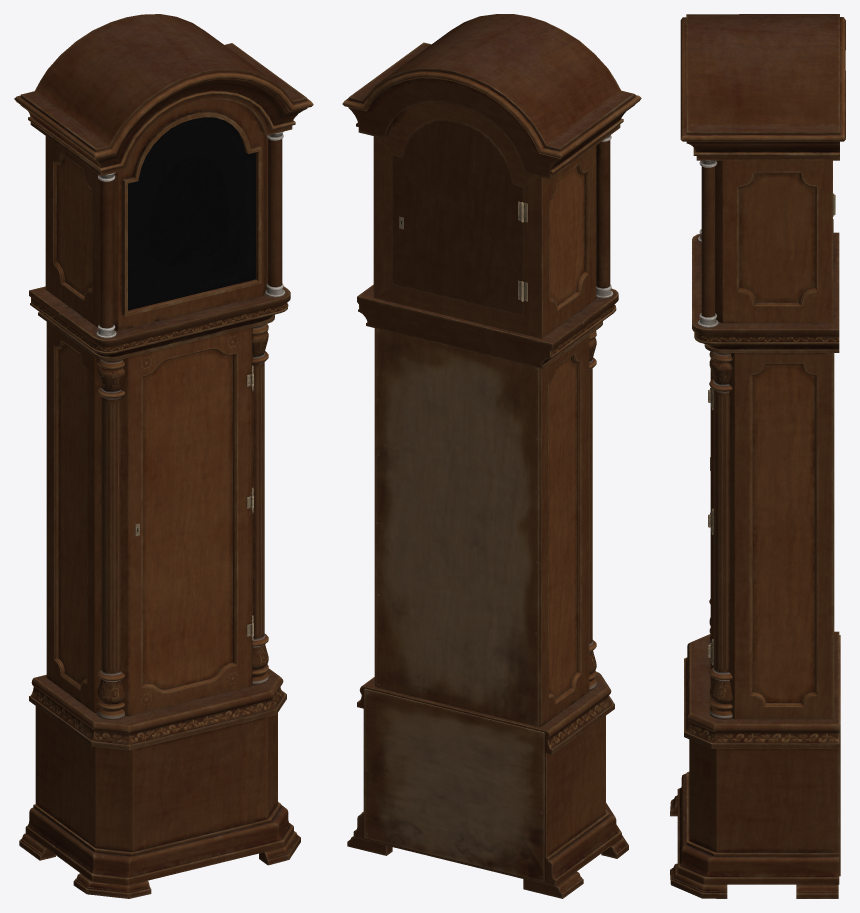
The model's file is vintage_grandfather_clock_01_2k.gltf.
3 views of the same model, side by side, from view 1: azimuth 30°, elevation 25°; view 2: azimuth 150°, elevation 25°; view 3: azimuth 270°, elevation 25° (orthographic). The views are drawn at different scales.
Visible parts, largest first — view 1: vintage_grandfather_clock_01_body; view 2: vintage_grandfather_clock_01_body; view 3: vintage_grandfather_clock_01_body.
Part boxes in pixels (left/top/right/bottom): vintage_grandfather_clock_01_body: left=14, top=14, right=313, bottom=898; vintage_grandfather_clock_01_body: left=342, top=14, right=641, bottom=898; vintage_grandfather_clock_01_body: left=670, top=14, right=845, bottom=898.
Bounding box in the file's own units: 0.6256 × 2.19 × 0.4266.
2 materials, 2 textured.
